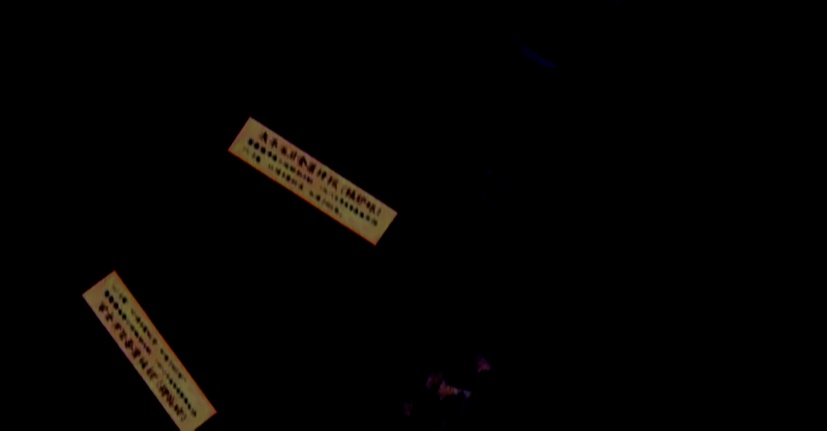halobolite: (191, 0, 494, 154), (596, 231, 755, 379), (500, 309, 594, 430), (395, 150, 510, 225), (737, 391, 794, 429)
